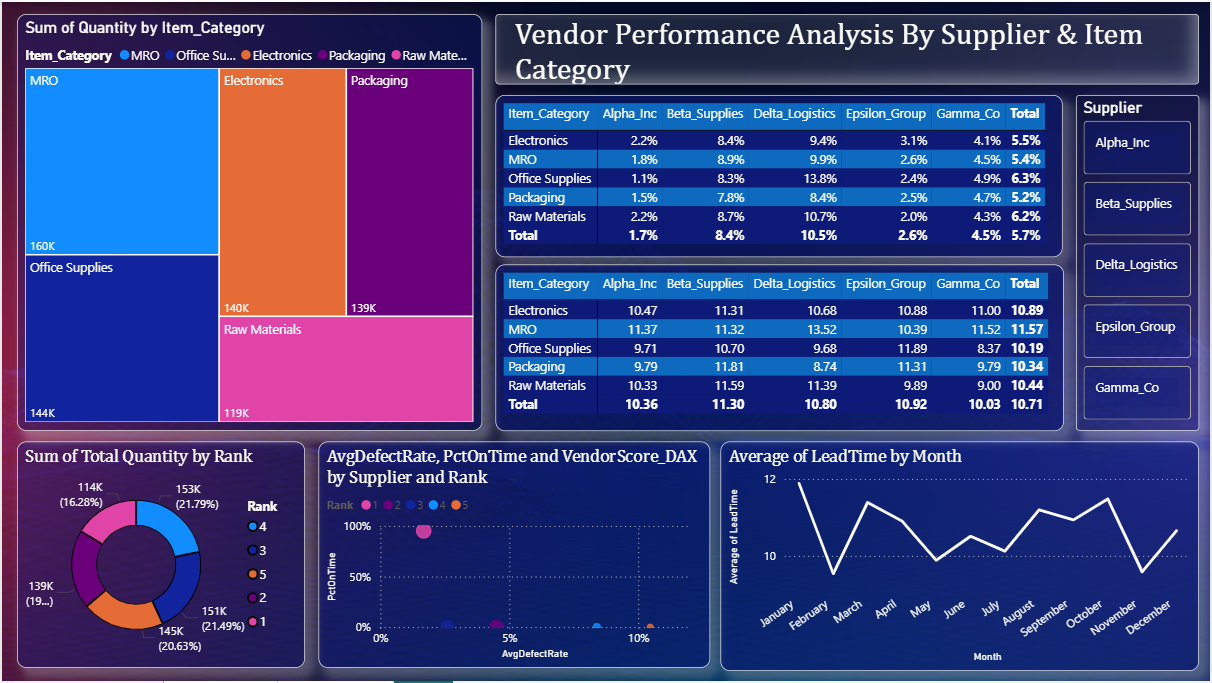

What the dashboard file says about the page in this screenshot:
{"tool":"powerbi","page":{"name":"Page 2","canvas":[1280,720],"ordinal":1},"visuals":[{"type":"scatterChart","fields":{"X":["clean_vendor_data.AvgDefectRate"],"Y":["clean_vendor_data.PctOnTime"],"Size":["vendor_summary.VendorScore_DAX"],"Category":["vendor_summary.Supplier"],"Series":["vendor_summary.Rank"]},"box":[335.6,466,415.1,240.2],"z":0},{"type":"lineChart","fields":{"Category":["clean_vendor_data.Order_Date.Variation.Date Hierarchy.Month"],"Y":["Avg(clean_vendor_data.LeadTime)"]},"box":[761.9,466,507.4,243.4],"z":1000},{"type":"pivotTable","fields":{"Rows":["clean_vendor_data.Item_Category"],"Columns":["clean_vendor_data.Supplier"],"Values":["clean_vendor_data.AvgDefectRate"]},"box":[523.3,98.6,601.3,171.8],"z":2000},{"type":"pivotTable","fields":{"Rows":["clean_vendor_data.Item_Category"],"Columns":["clean_vendor_data.Supplier"],"Values":["Avg(clean_vendor_data.LeadTime)"]},"box":[523.3,278.4,602.8,176.6],"z":3000},{"type":"advancedSlicerVisual","fields":{"Values":["clean_vendor_data.Supplier"]},"box":[1138.9,98.6,130.4,356.3],"z":4000},{"type":"donutChart","title":"Sum of Total Quantity by Rank","fields":{"Category":["vendor_summary.Rank"],"Y":["Sum(vendor_summary.TotalQuantity)"]},"box":[15.9,466,305.4,240.2],"z":5000},{"type":"treemap","fields":{"Group":["clean_vendor_data.Item_Category"],"Values":["Sum(clean_vendor_data.Quantity)"]},"box":[15.9,12.7,493.1,442.2],"z":6000},{"type":"textbox","title":"Vendor Performance Analysis By Supplier & Item Category","box":[523.3,12.7,746,74.8],"z":7000}]}

Visuals, with their boxes in screenshot pixels (x1, y1, x2, y2), scaled from the page's 1280x720 canvas onto the 1212x683 screenshot:
scatterChart - clean_vendor_data.AvgDefectRate x clean_vendor_data.PctOnTime: box=[318, 442, 711, 670]
lineChart - clean_vendor_data.Order_Date.Variation.Date Hierarchy.Month x Avg(clean_vendor_data.LeadTime): box=[721, 442, 1202, 673]
pivotTable - clean_vendor_data.Item_Category x clean_vendor_data.Supplier: box=[495, 94, 1065, 257]
pivotTable - clean_vendor_data.Item_Category x clean_vendor_data.Supplier: box=[495, 264, 1066, 432]
advancedSlicerVisual - clean_vendor_data.Supplier: box=[1078, 94, 1202, 432]
"Sum of Total Quantity by Rank" donutChart: box=[15, 442, 304, 670]
treemap - clean_vendor_data.Item_Category x Sum(clean_vendor_data.Quantity): box=[15, 12, 482, 432]
"Vendor Performance Analysis By Supplier & Item Category" textbox: box=[495, 12, 1202, 83]
